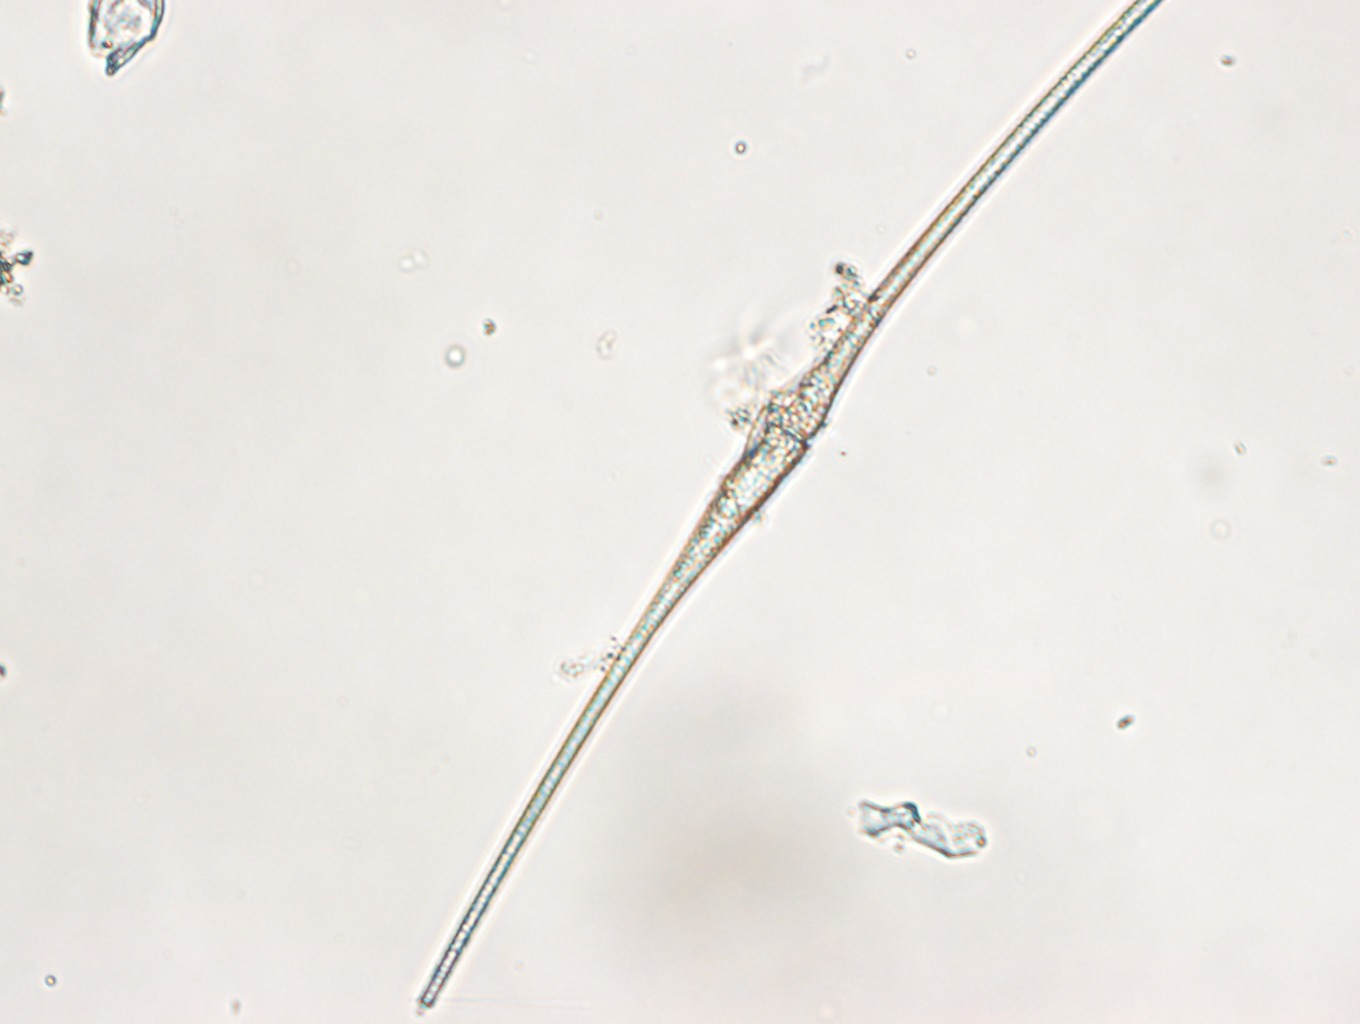ceratium fusus: (418, 1, 1165, 1014)
